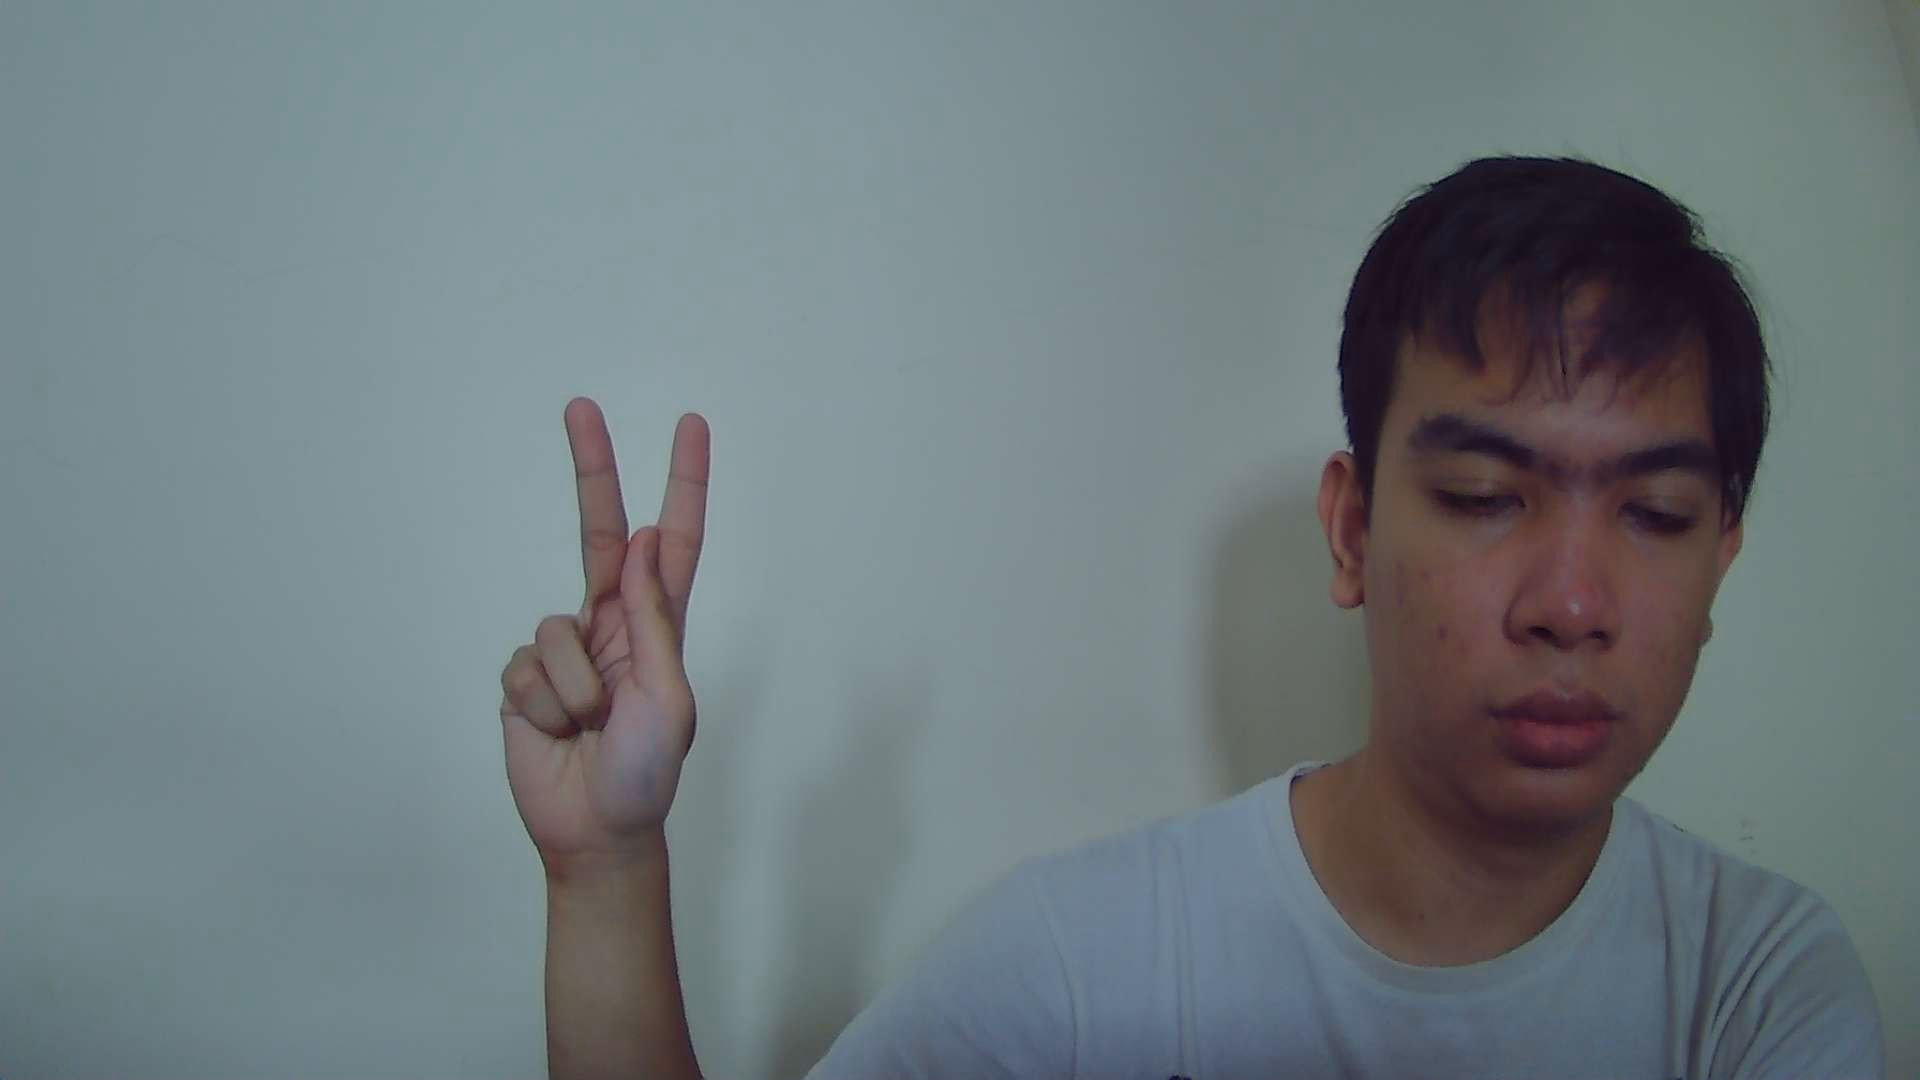k: (495, 392, 715, 789)
